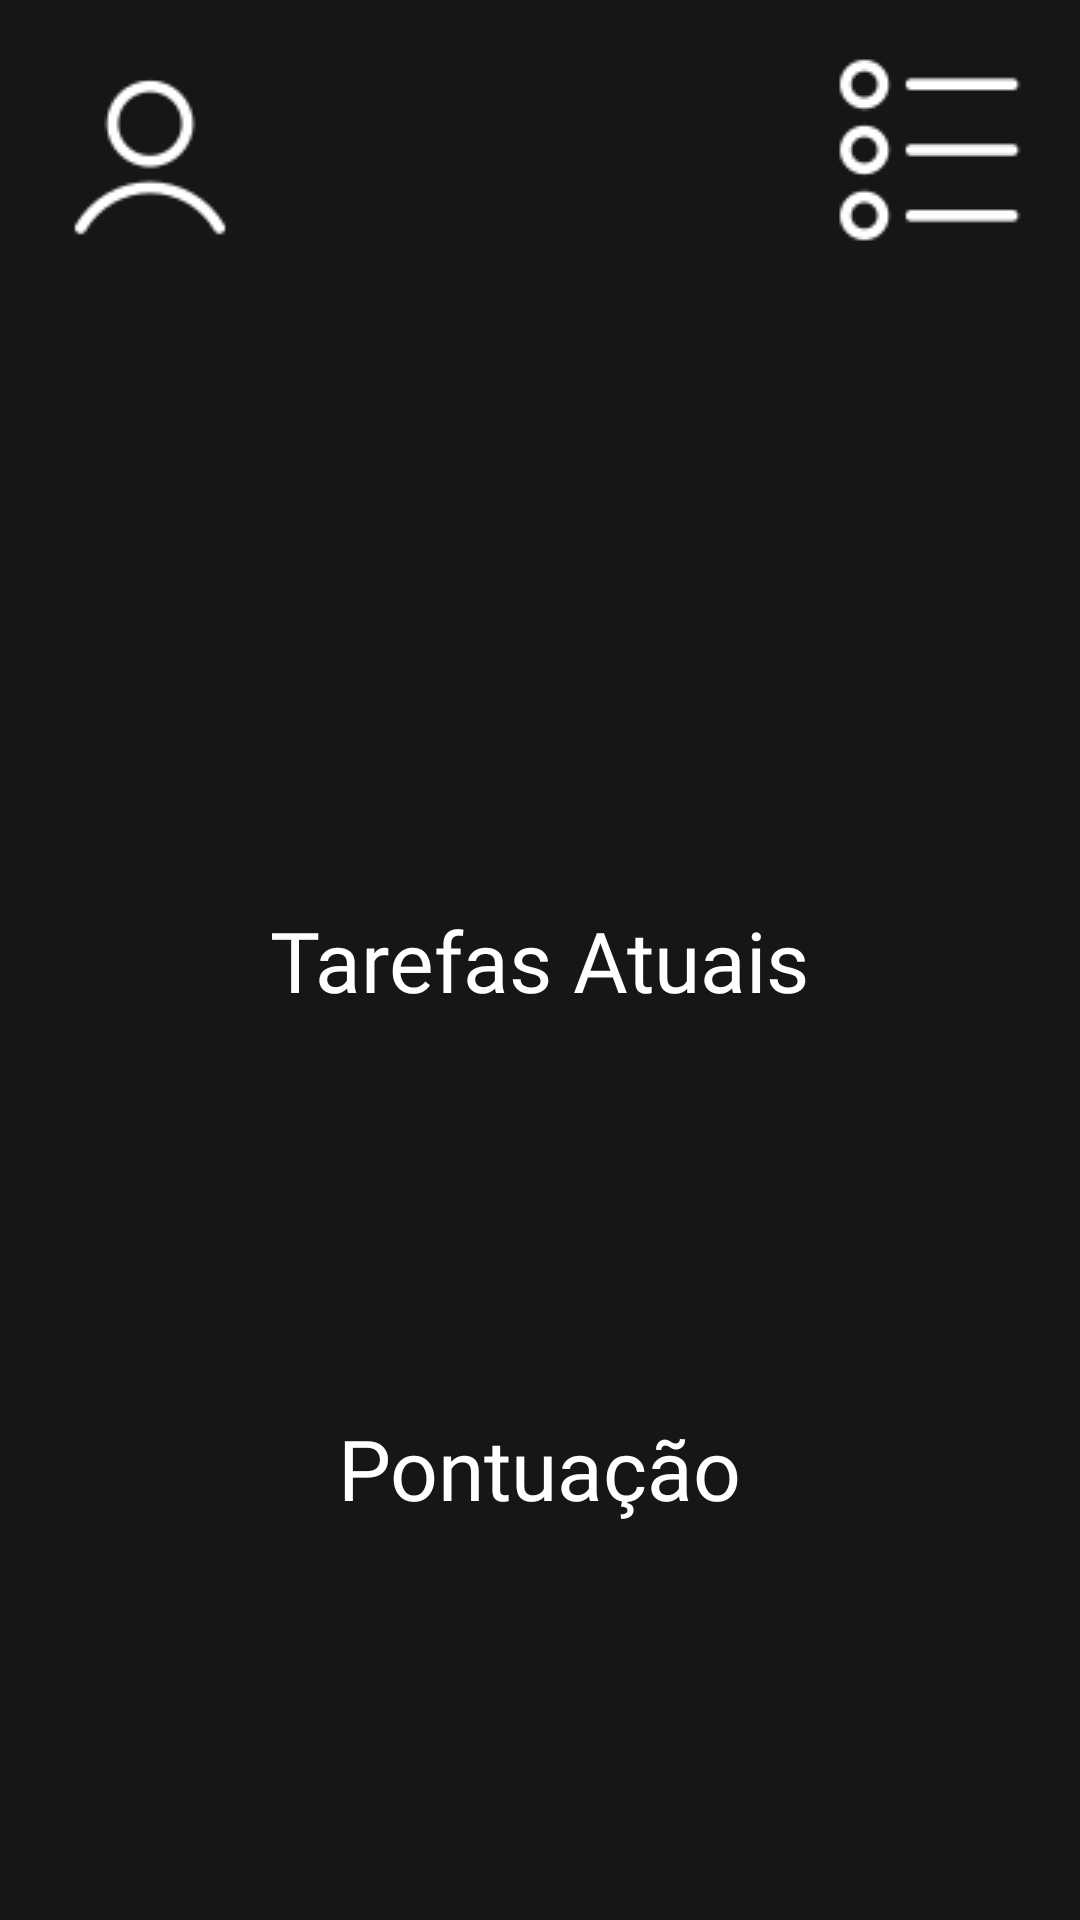

Icon click points for this 1080w x 1920h phone screenshot, format (x=x, y=y):
all task: (x=929, y=150)
